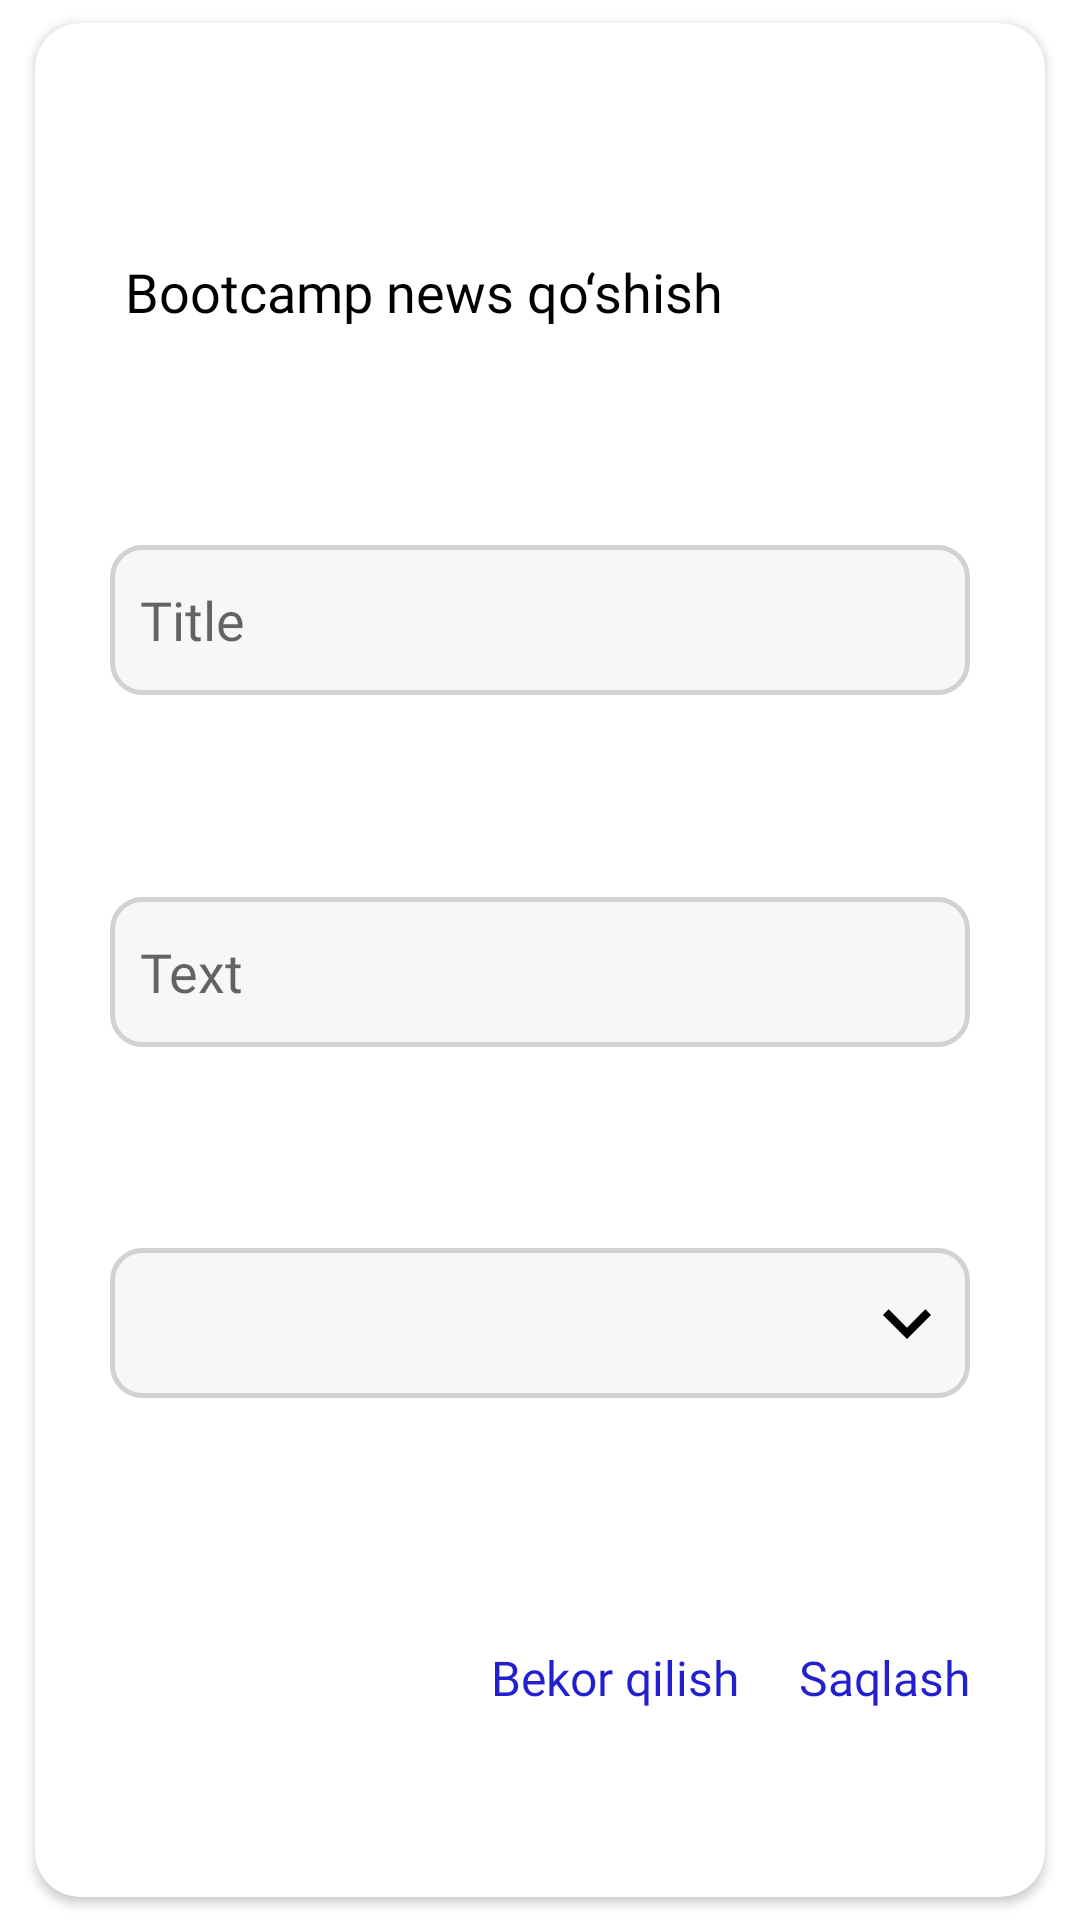

Point at icon controls on the screen. Image size 1080px x 1920px, points as (x,y).
keyboard arrow down: (907,1324)
